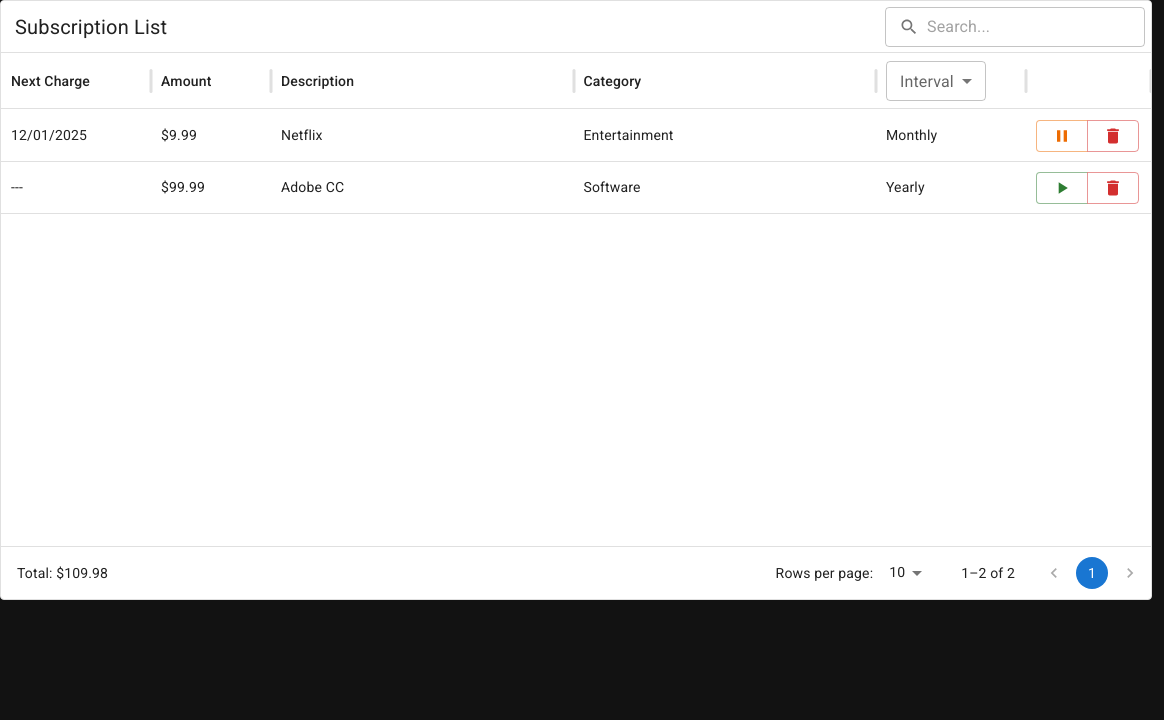
Test case: Subscription List Component › Toggle Subscription › Toggles paused subscription to active
Click the button named "Resume subscription" at coordinates (1062, 188), box [1036,172,1088,204]
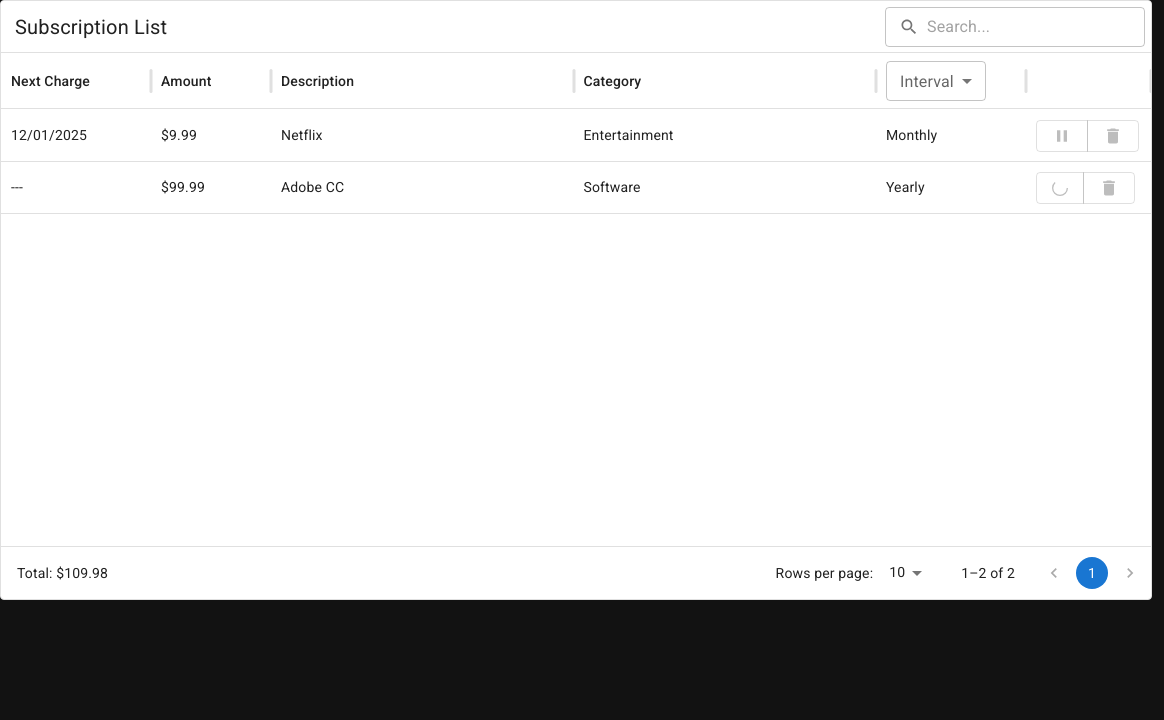
Expected: the progress indicator is shown, [1052,180,1068,196]
